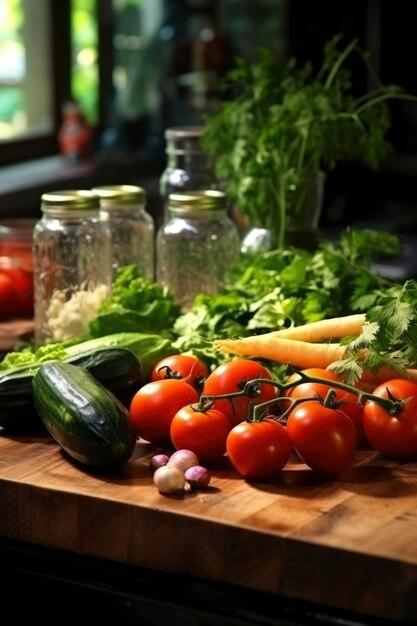carrot: (211, 320, 366, 376)
tomato: (155, 329, 417, 484)
